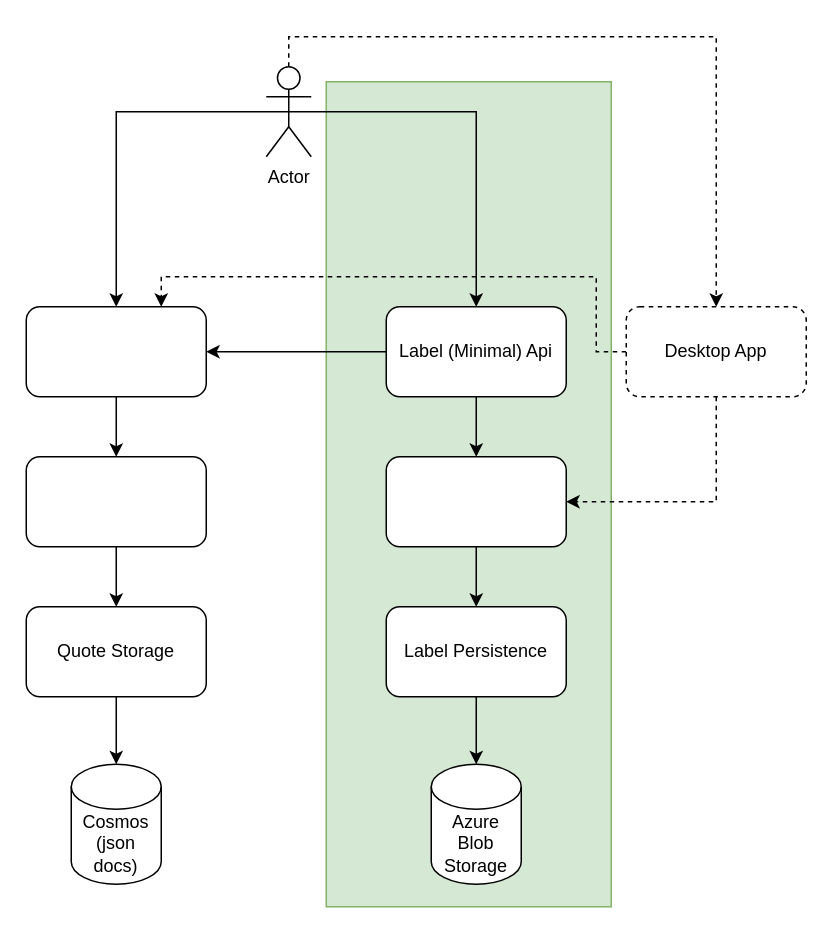
The diagram is 833 pixels wide and 933 high, and some of its shapes have lost their labels. Here are the shapes that lost their labels. From the top down, the centre of each, then its label:
At (115,351): "Quote Api".
At (115,501): "Quote Service".
At (475,501): "Label Domein".
